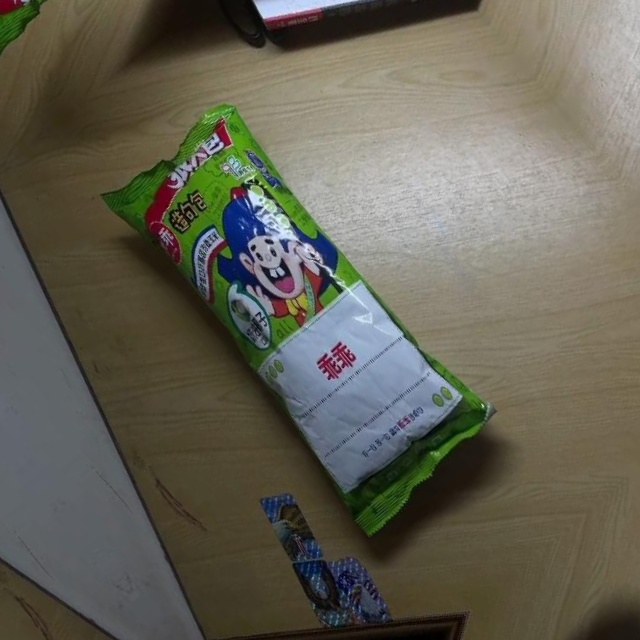Good-Luck: (87, 85, 506, 535)
